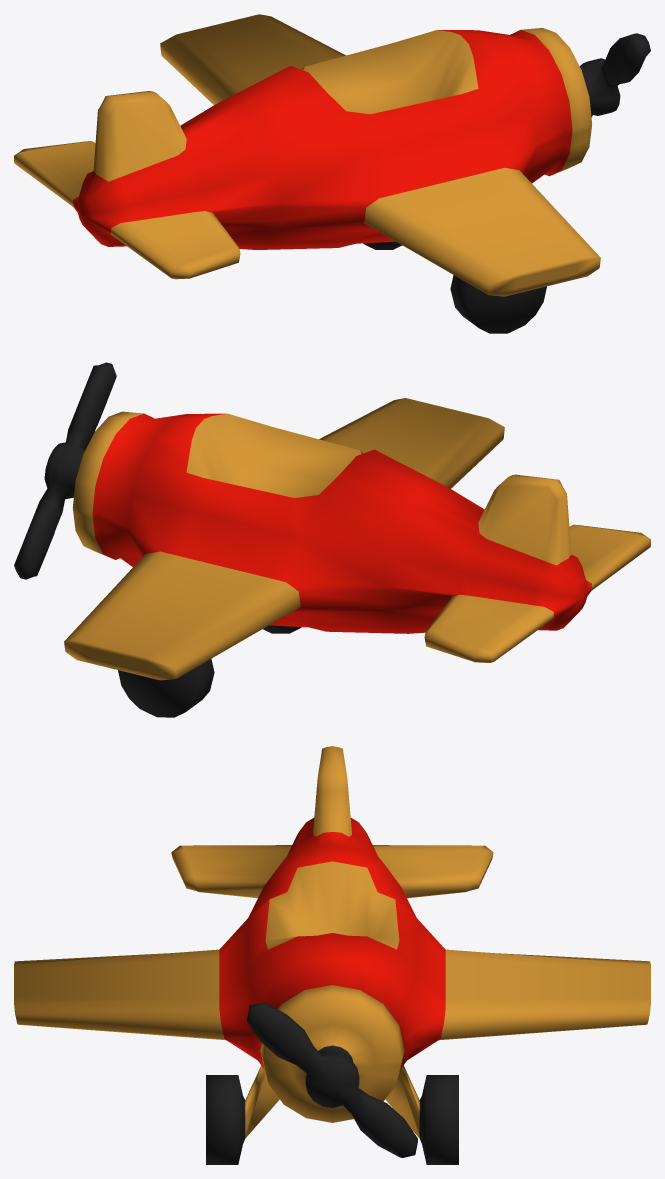
The picture shows the model from 3 angles, top to bottom: view 1: azimuth 30°, elevation 25°; view 2: azimuth 150°, elevation 25°; view 3: azimuth 270°, elevation 25°; orthographic projection. The views are drawn at different scales.
Parts seen in each view (by area): view 1: Plane; view 2: Plane; view 3: Plane.
Part boxes in pixels (x1,y1,x2,y2): Plane: (14, 14, 650, 333); Plane: (14, 362, 650, 717); Plane: (14, 746, 650, 1164).
Bounding box in the file's own units: 20.69 × 10.03 × 22.29.
